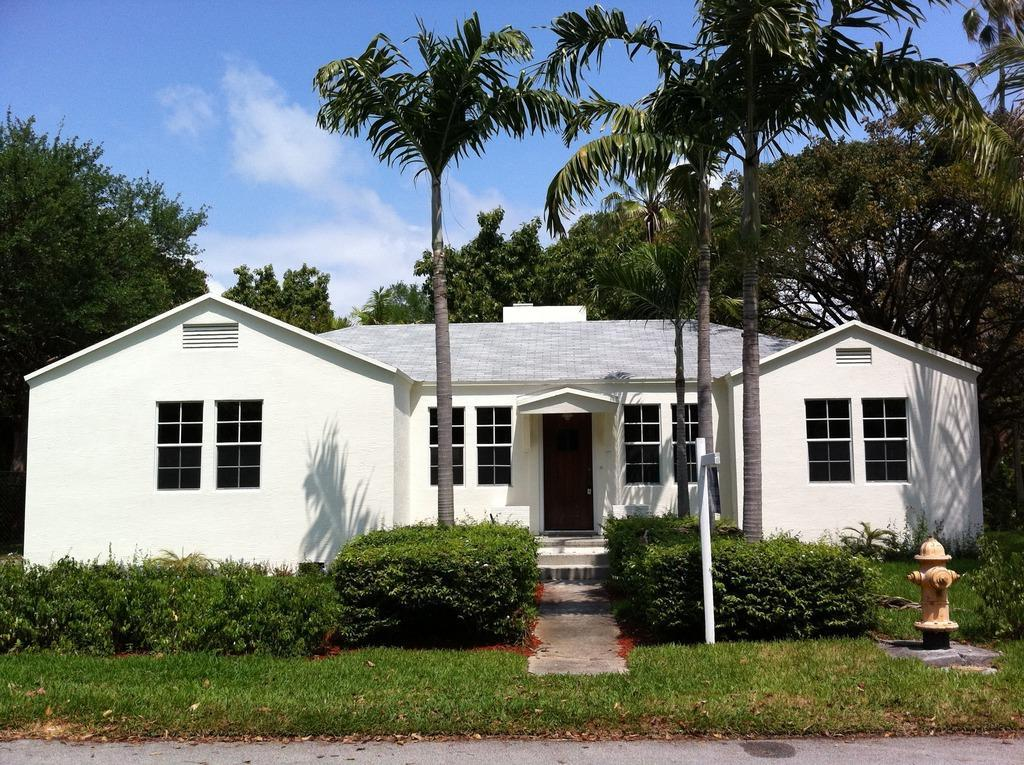door: (544, 417, 590, 526)
